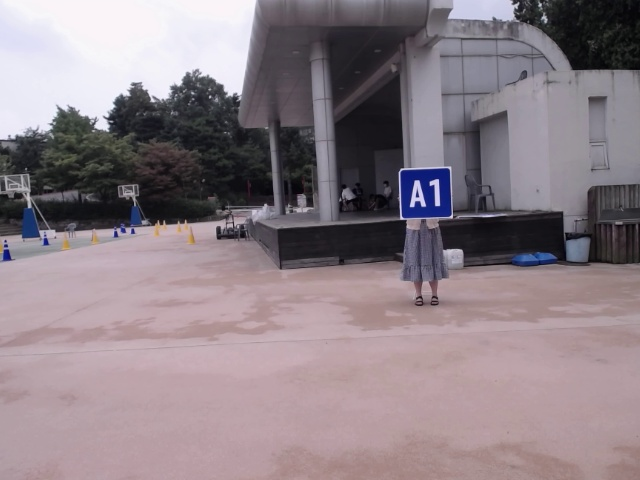delivery_a1: (399, 168, 453, 219)
